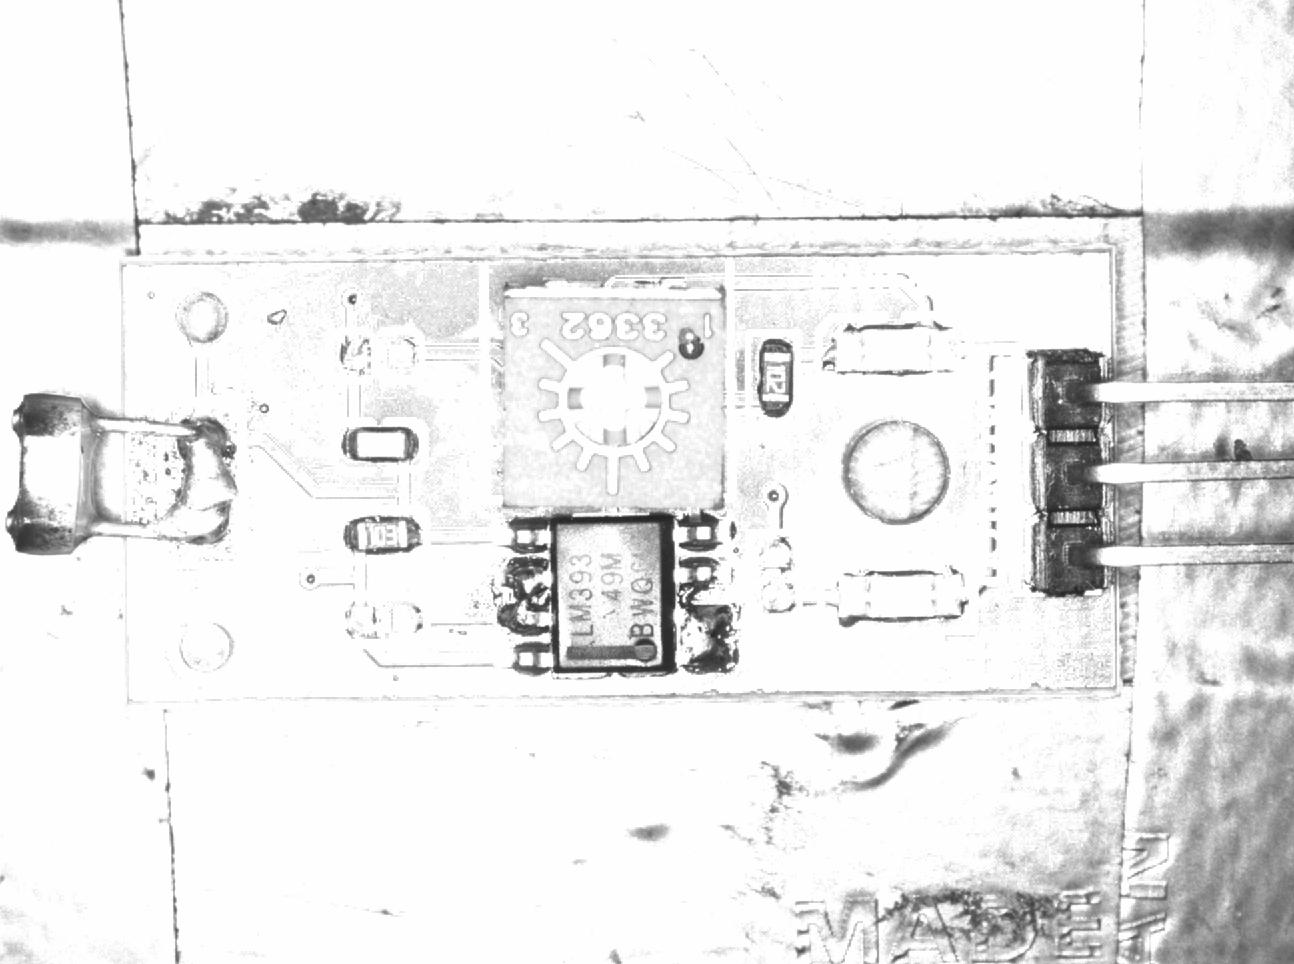bridge: (165, 406, 243, 554), (490, 559, 556, 641), (676, 595, 740, 678)
miss: (334, 596, 429, 650), (748, 529, 803, 616), (328, 330, 425, 378)
ok: (744, 331, 804, 425), (343, 504, 424, 565), (335, 419, 423, 466)
